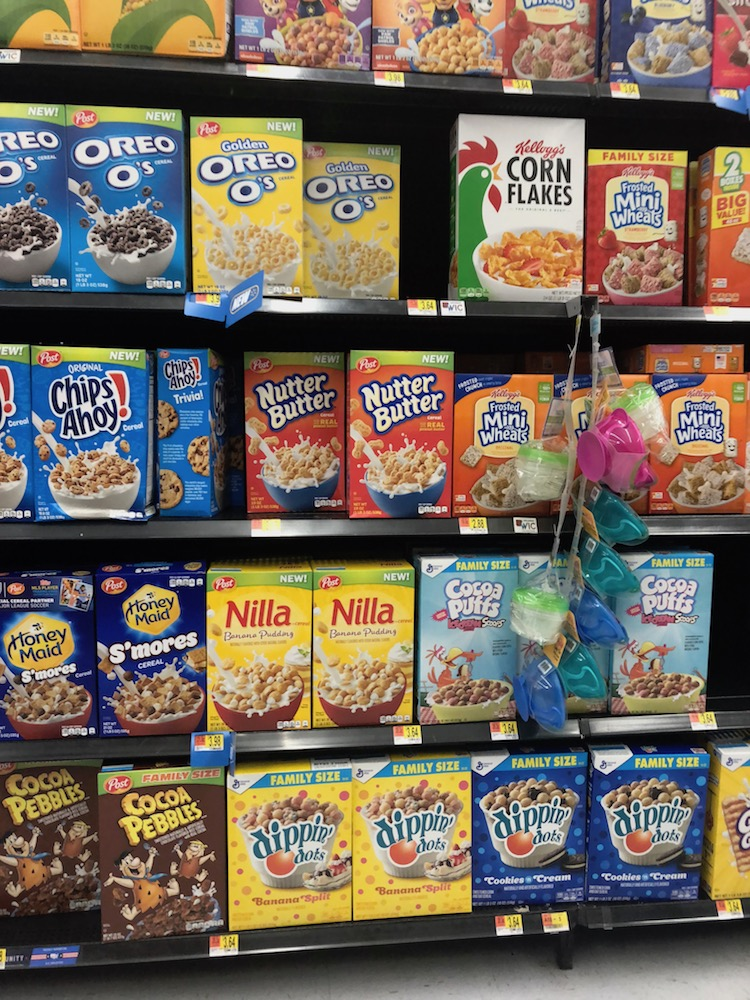Chips Ahoys-565717529: (22, 341, 165, 513)
Cocoa Pebbles-555517893: (92, 766, 231, 933), (1, 766, 95, 914)
Cocoa Puffs Ice Cream-563408546: (415, 558, 525, 720), (615, 555, 708, 710)
Dippin Dots Banana-568929376: (234, 769, 355, 931), (351, 762, 477, 906)
Dippin Dots Cookies & Cream -568929378: (588, 750, 708, 906), (471, 758, 590, 904)
Honey Maid Graham -563424385: (98, 569, 214, 733), (1, 578, 96, 738)
Mini Wheats Straw-567084832: (590, 153, 691, 307)
Nilla -568301014: (204, 570, 320, 730), (306, 575, 420, 728)
Nutter Butter-565717511: (342, 350, 452, 522), (244, 349, 346, 510)
Oreo Golden-568301011: (189, 114, 310, 293), (301, 132, 405, 301)
Oreo-563424384: (71, 110, 190, 294), (1, 109, 67, 293)
